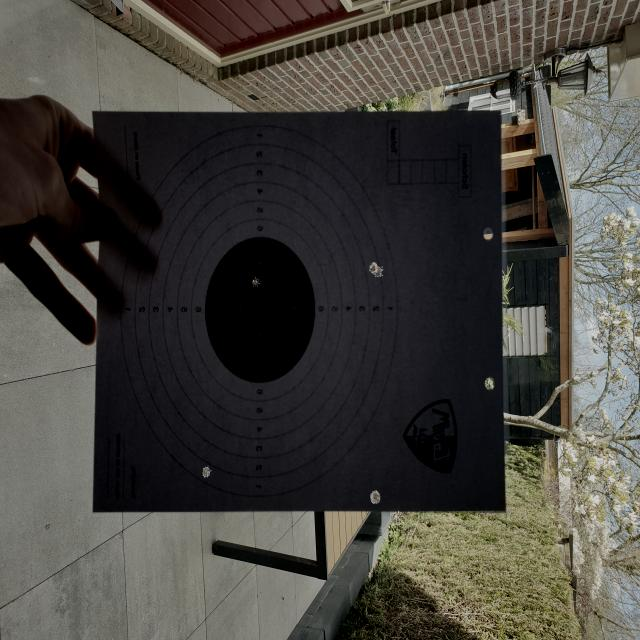0: (371, 490, 380, 503)
1: (202, 466, 211, 478)
2: (368, 261, 379, 277), (373, 264, 384, 278)
9: (251, 276, 260, 288)
Target: (120, 121, 398, 501)
black_contour: (206, 237, 316, 383)
